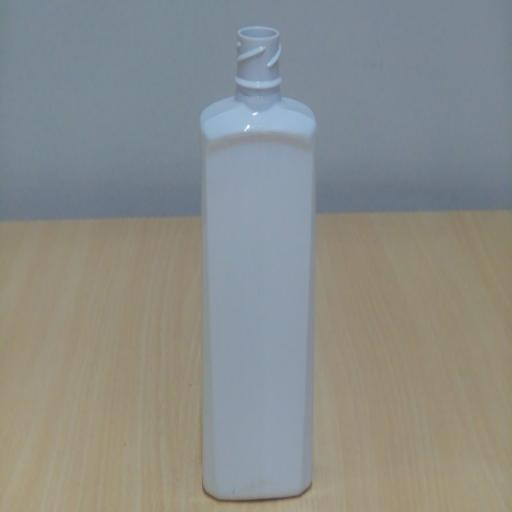Good: (192, 14, 327, 510)
